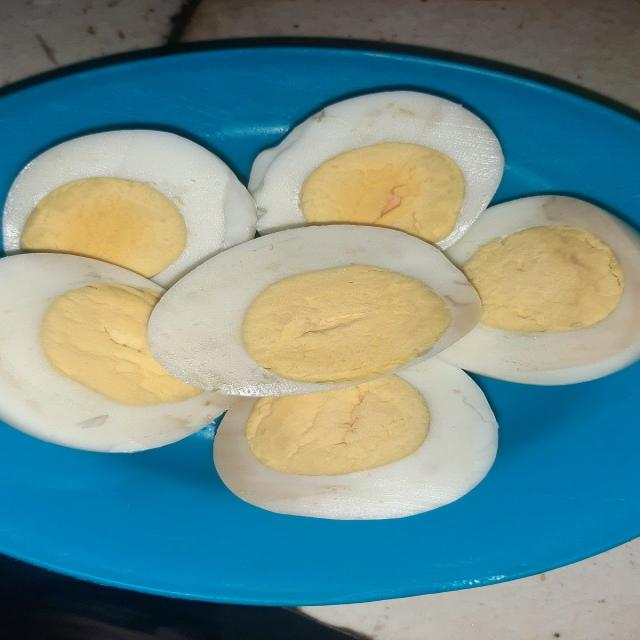eggs: (21, 99, 610, 534)
